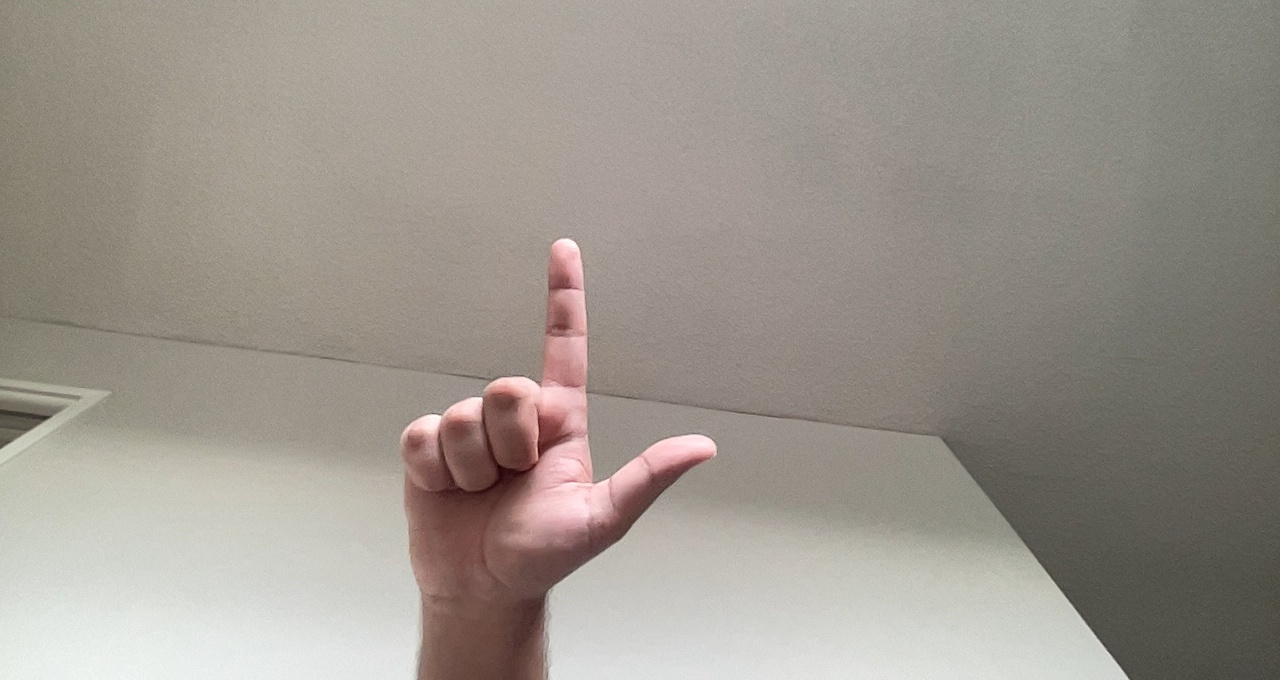L: (394, 230, 722, 625)
